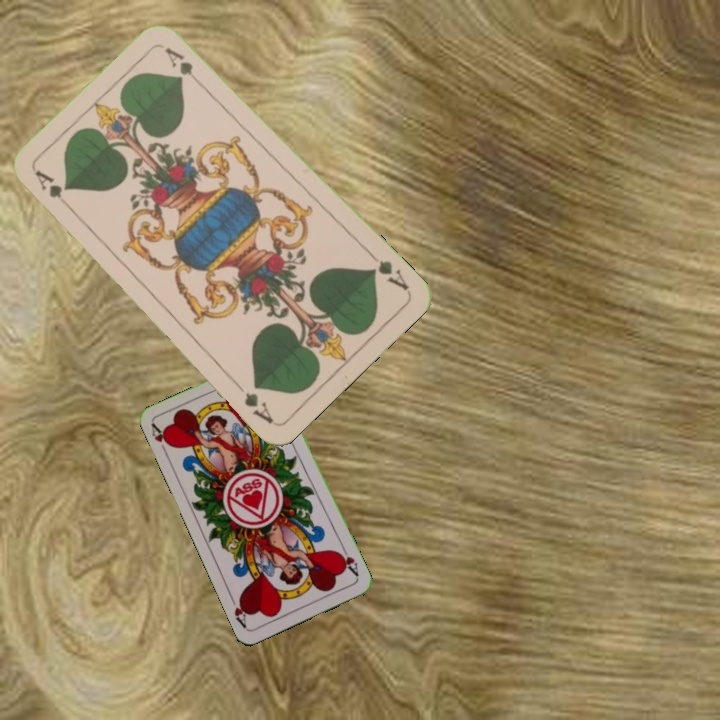GA: (30, 166, 76, 214), (364, 248, 412, 293)
HA: (147, 420, 175, 459), (333, 542, 361, 579)
